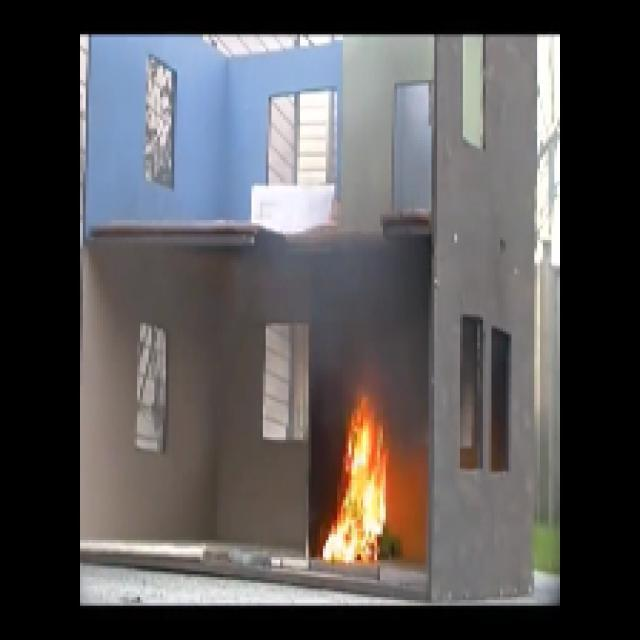Fire: (331, 376, 398, 578)
